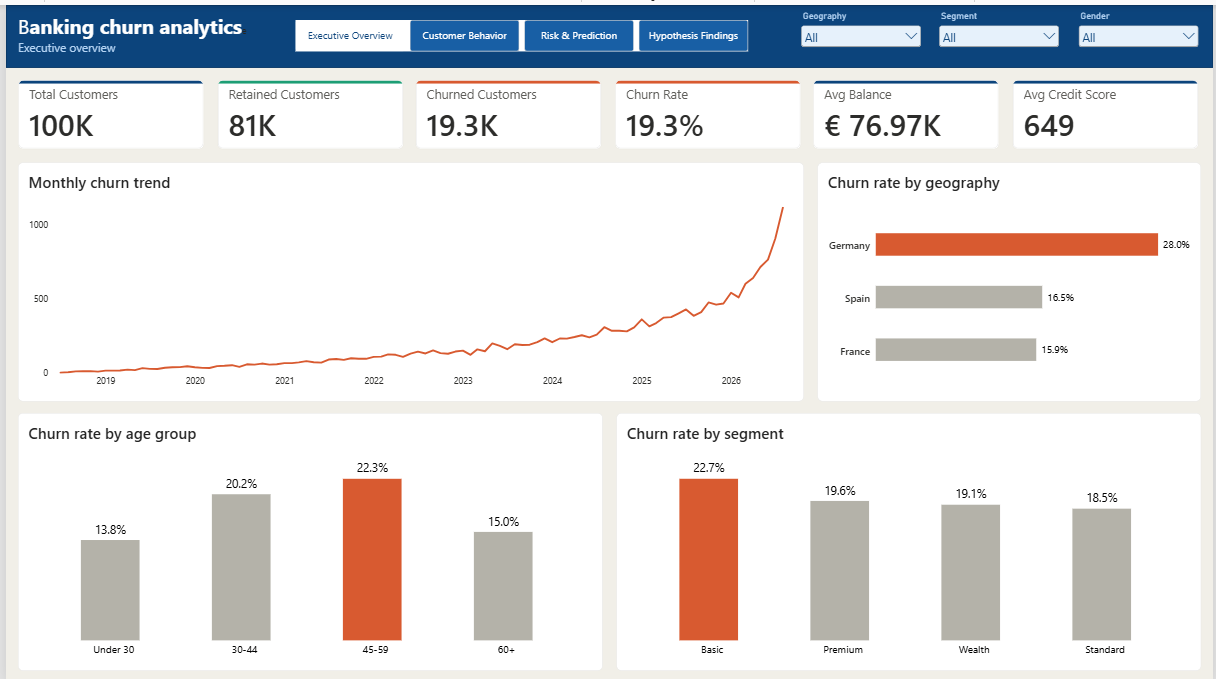

This screenshot's page, from the dashboard's own definition file:
{"tool":"powerbi","page":{"name":"Executive Overview","canvas":[1920,1080],"ordinal":0},"visuals":[{"type":"shape","box":[0,0,1920,100],"z":0},{"type":"textbox","box":[20,12,400,45],"z":1000},{"type":"textbox","box":[19.1,54.9,400.8,28.6],"z":2000},{"type":"pageNavigator","box":[460,25,720,50],"z":3000},{"type":"slicer","fields":{"Values":["bank_analytics vw_customers.geography"]},"box":[1260,10,200,80],"z":4000},{"type":"slicer","fields":{"Values":["bank_analytics vw_customers.segment"]},"box":[1480,10,200,80],"z":5000},{"type":"slicer","fields":{"Values":["bank_analytics vw_customers.gender"]},"box":[1700,10,200,79],"z":6000},{"type":"cardVisual","fields":{"Data":["new_measures.Total_customers"]},"box":[20,120,296,110],"z":7000},{"type":"cardVisual","fields":{"Data":["new_measures.Retained_customer"]},"box":[336,120,296,110],"z":8000},{"type":"cardVisual","fields":{"Data":["new_measures.churned_customer"]},"box":[652,120,296,110],"z":9000},{"type":"cardVisual","fields":{"Data":["new_measures.churn_rate"]},"box":[968,120,296,110],"z":10000},{"type":"cardVisual","fields":{"Data":["new_measures.Avg Balance"]},"box":[1284,120,296,110],"z":11000},{"type":"cardVisual","fields":{"Data":["new_measures.Avg Credit Score"]},"box":[1600,120,296,110],"z":12000},{"type":"lineChart","title":"Monthly churn trend","fields":{"Category":["bank_analytics vw_customers.churn month"],"Y":["new_measures.churned_customer"]},"box":[20,250,1250,380],"z":13000},{"type":"clusteredBarChart","title":"Churn rate by geography","fields":{"Category":["bank_analytics vw_customers.geography"],"Y":["new_measures.churn_rate"]},"box":[1290,250,610,380],"z":14000},{"type":"clusteredColumnChart","title":"Churn rate by age group","fields":{"Category":["bank_analytics vw_customers.age_group"],"Y":["new_measures.churn_rate"]},"box":[20,650,930,410],"z":15000},{"type":"clusteredColumnChart","title":"Churn rate by segment","fields":{"Category":["bank_analytics vw_customers.segment"],"Y":["new_measures.churn_rate"]},"box":[970,650,930,410],"z":16000}]}

Visuals, with their boxes in screenshot pixels (x1, y1, x2, y2), scaled from the page's 1920x1080 canvas onto the 1216x679 screenshot:
shape: pyautogui.locateOnScreen(0, 0, 1215, 63)
textbox: pyautogui.locateOnScreen(13, 8, 266, 36)
textbox: pyautogui.locateOnScreen(12, 35, 266, 52)
pageNavigator: pyautogui.locateOnScreen(291, 16, 747, 47)
slicer - bank_analytics vw_customers.geography: pyautogui.locateOnScreen(798, 6, 925, 57)
slicer - bank_analytics vw_customers.segment: pyautogui.locateOnScreen(937, 6, 1064, 57)
slicer - bank_analytics vw_customers.gender: pyautogui.locateOnScreen(1077, 6, 1203, 56)
cardVisual - new_measures.Total_customers: pyautogui.locateOnScreen(13, 75, 200, 145)
cardVisual - new_measures.Retained_customer: pyautogui.locateOnScreen(213, 75, 400, 145)
cardVisual - new_measures.churned_customer: pyautogui.locateOnScreen(413, 75, 600, 145)
cardVisual - new_measures.churn_rate: pyautogui.locateOnScreen(613, 75, 801, 145)
cardVisual - new_measures.Avg Balance: pyautogui.locateOnScreen(813, 75, 1001, 145)
cardVisual - new_measures.Avg Credit Score: pyautogui.locateOnScreen(1013, 75, 1201, 145)
"Monthly churn trend" lineChart: pyautogui.locateOnScreen(13, 157, 804, 396)
"Churn rate by geography" clusteredBarChart: pyautogui.locateOnScreen(817, 157, 1203, 396)
"Churn rate by age group" clusteredColumnChart: pyautogui.locateOnScreen(13, 409, 602, 666)
"Churn rate by segment" clusteredColumnChart: pyautogui.locateOnScreen(614, 409, 1203, 666)
